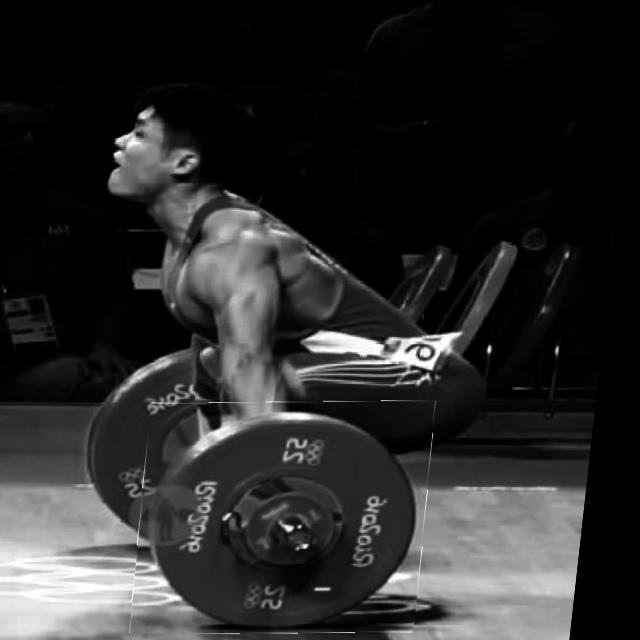barbell: (142, 400, 448, 635)
